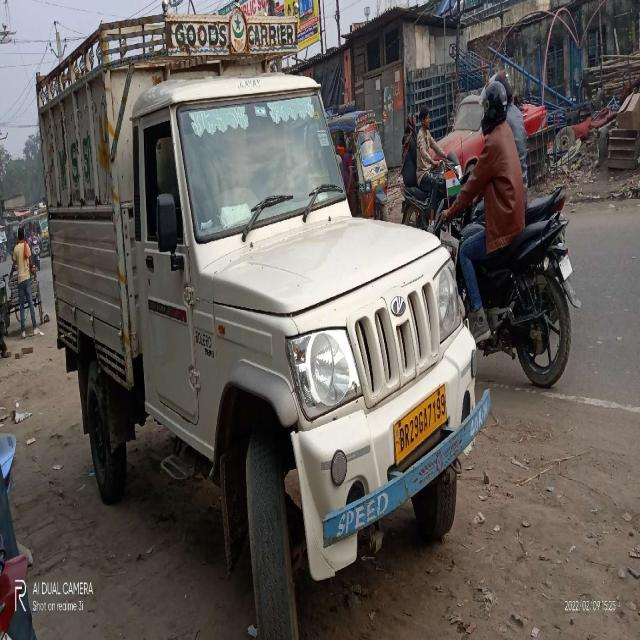light_vehicle: (38, 45, 478, 484)
